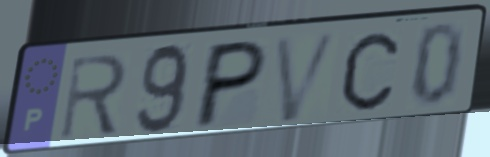0: (410, 19, 468, 111)
9: (131, 41, 193, 140)
C: (338, 29, 402, 114)
P: (189, 37, 273, 133)
R: (56, 50, 131, 143)
V: (271, 27, 344, 126)
